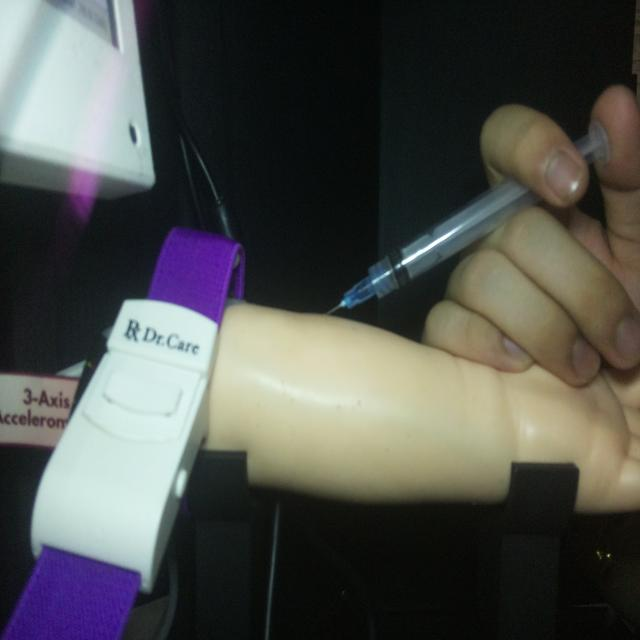26 degrees: (324, 117, 612, 318)
